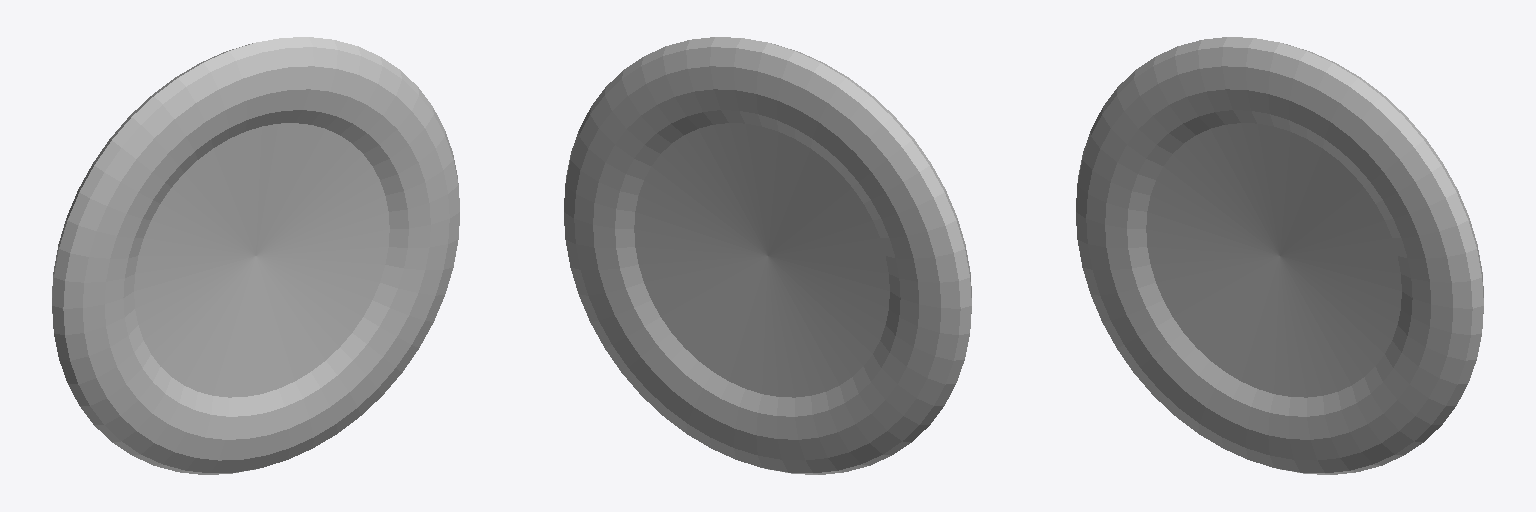
Rendered from disk_rotated.obj.
The picture shows the model from 3 angles: view 1: azimuth 30°, elevation 25°; view 2: azimuth 150°, elevation 25°; view 3: azimuth 330°, elevation 25°; orthographic projection.
Parts seen in each view (by area): view 1: Mesh_torus_rotated; view 2: Mesh_torus_rotated; view 3: Mesh_torus_rotated.
Boxes of the visible parts, x1=… form: Mesh_torus_rotated: x1=52, y1=37, x2=459, y2=474; Mesh_torus_rotated: x1=564, y1=37, x2=971, y2=474; Mesh_torus_rotated: x1=1076, y1=37, x2=1483, y2=474.
Size of the model in its own units: 1 by 1 by 0.1.